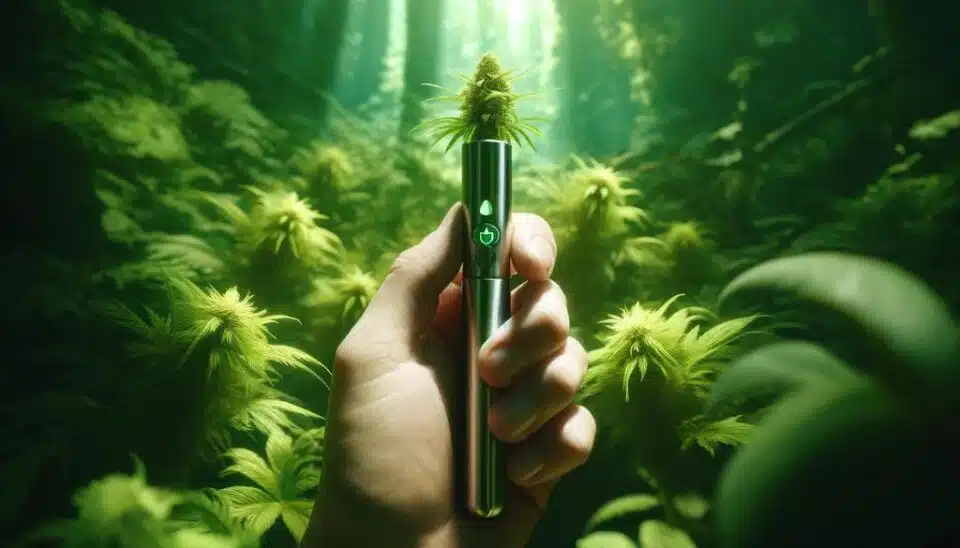weed_pen: (405, 105, 619, 534)
